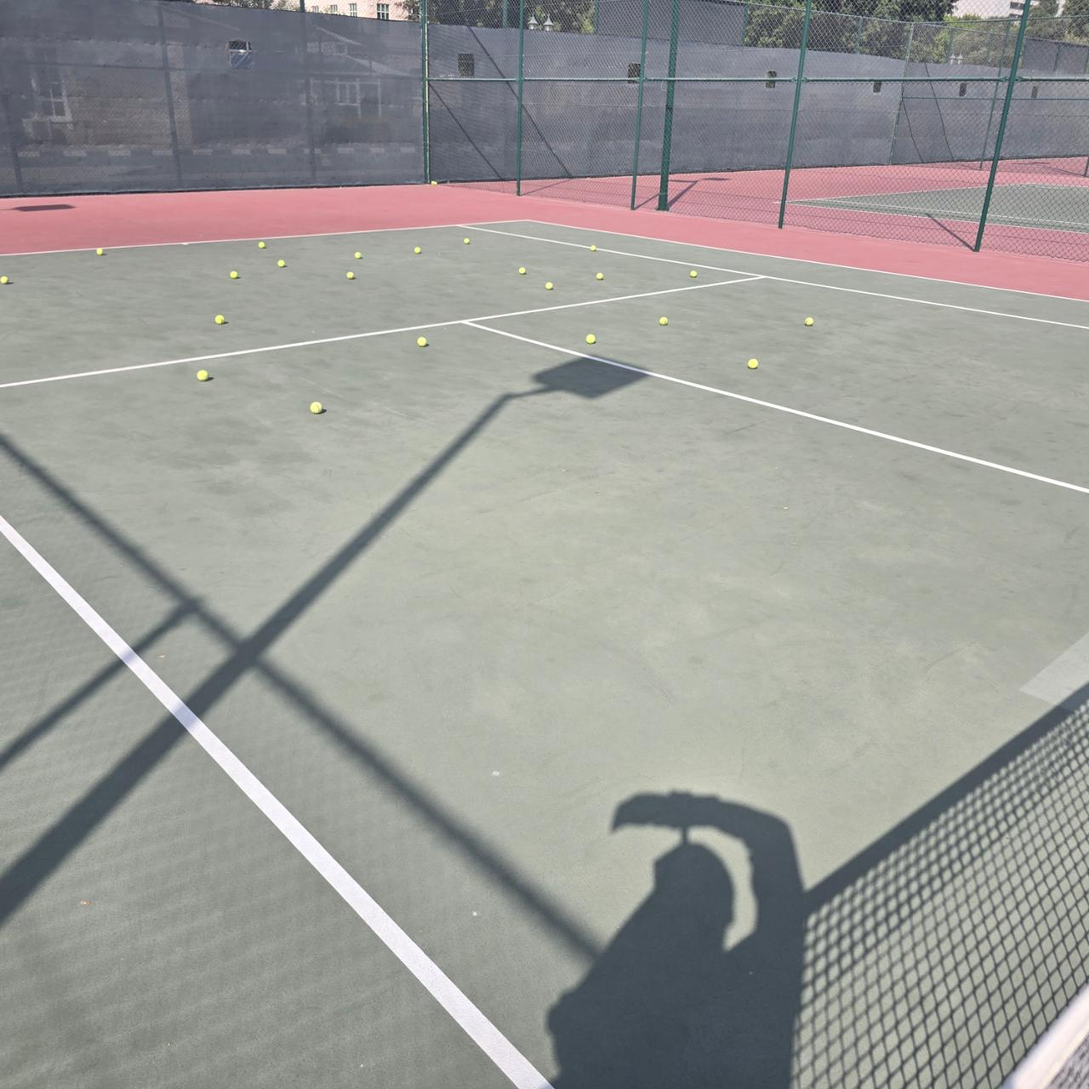tennis-ball: (310, 399, 325, 413), (417, 334, 430, 347), (585, 332, 598, 345), (196, 369, 210, 381), (748, 356, 761, 368), (804, 314, 816, 326), (659, 314, 670, 325), (518, 265, 529, 276), (214, 314, 225, 325), (545, 279, 556, 290), (689, 267, 699, 278), (595, 272, 604, 281), (277, 259, 285, 268), (230, 270, 238, 279), (0, 276, 9, 284), (463, 237, 471, 245), (354, 251, 362, 259), (346, 271, 354, 279), (430, 179, 438, 186), (590, 244, 597, 252), (414, 246, 421, 254), (258, 241, 265, 249), (96, 247, 103, 255)
